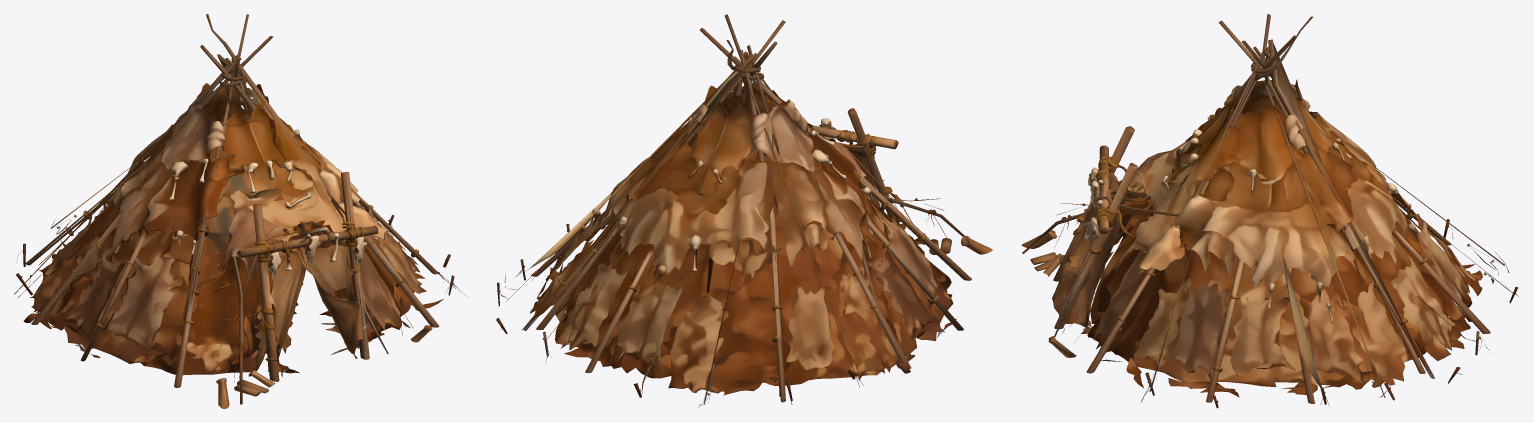
The model's file is zelt2_original.glb.
3 views of the same model, side by side, from view 1: azimuth 30°, elevation 25°; view 2: azimuth 150°, elevation 25°; view 3: azimuth 270°, elevation 25° (orthographic). The views are drawn at different scales.
Visible parts, largest first — view 1: geometry_0; view 2: geometry_0; view 3: geometry_0.
Boxes of the visible parts, x1=… form: geometry_0: x1=14, y1=14, x2=467, y2=408; geometry_0: x1=496, y1=14, x2=992, y2=408; geometry_0: x1=1021, y1=14, x2=1518, y2=408.
Size of the model in its own units: 0.9028 by 0.6157 by 0.9521.
Materials: 1 (1 with a texture image).
